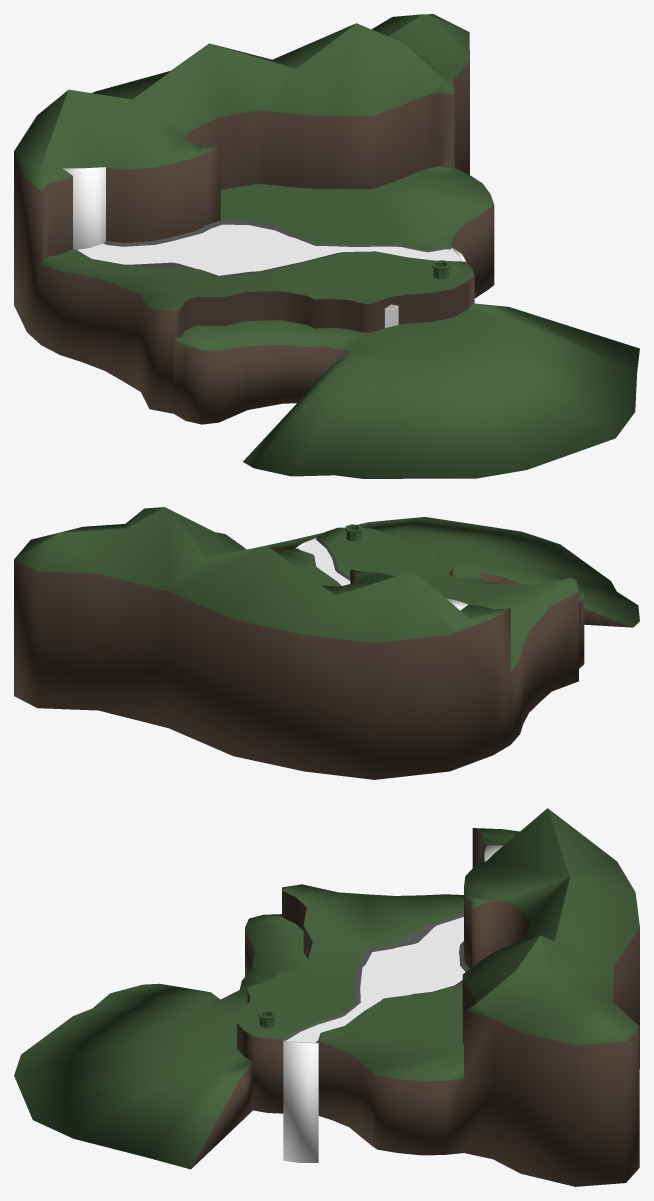
File: adventure_mode_demoLevel.glb
3 views of the same model, one above another, from view 1: azimuth 30°, elevation 25°; view 2: azimuth 150°, elevation 25°; view 3: azimuth 270°, elevation 25° (orthographic). The views are drawn at different scales.
Parts seen in each view (by area): view 1: terrain, river; view 2: terrain, river; view 3: terrain, river.
Boxes of the visible parts, left/top/right/bottom form: terrain: left=14, top=14, right=639, bottom=478; river: left=63, top=167, right=466, bottom=275; terrain: left=14, top=507, right=639, bottom=779; river: left=295, top=538, right=468, bottom=610; terrain: left=14, top=808, right=639, bottom=1186; river: left=283, top=845, right=503, bottom=1162.
Size of what is drawn, in the model's own units: 349 by 179 by 425.
